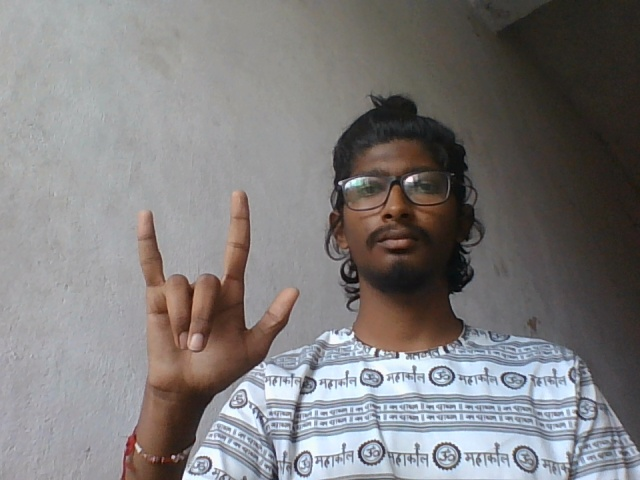House: (127, 186, 308, 408)
